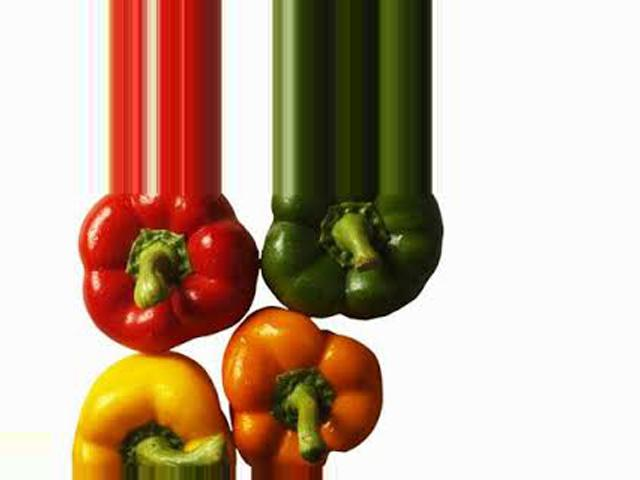bell_pepper: (66, 342, 242, 468)
